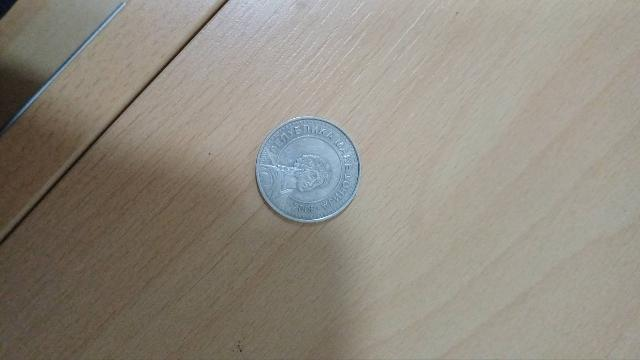coin: (255, 118, 359, 223)
